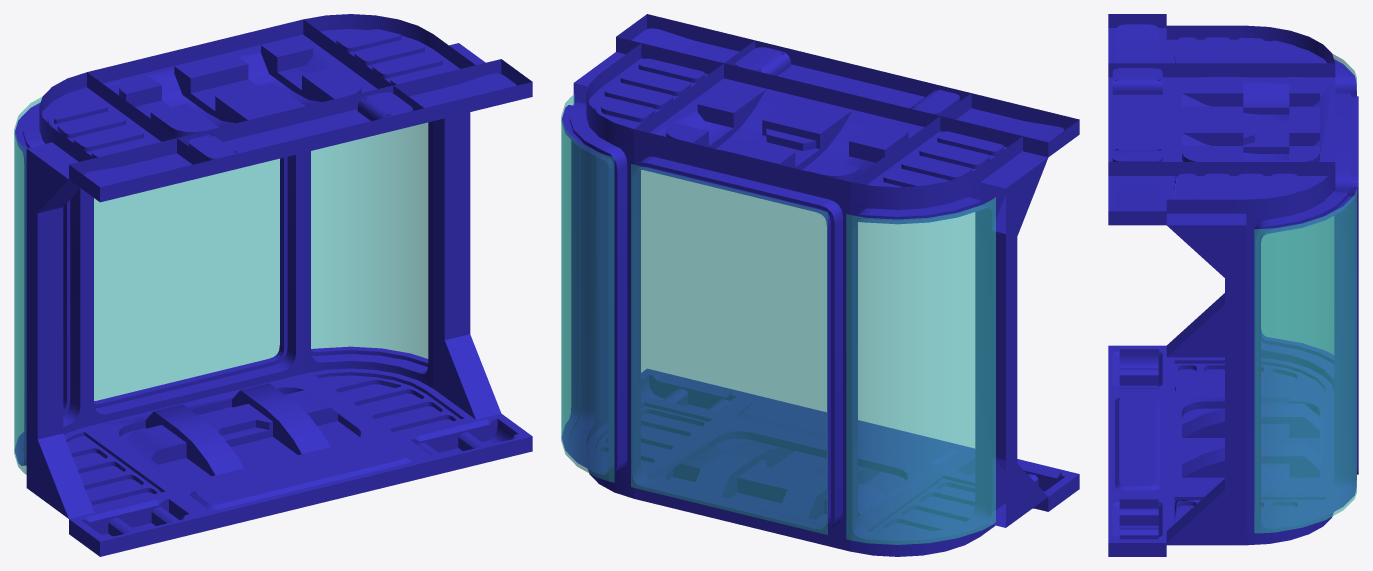
File: CBig_Wall_WinBig_A.FBX
3 renders of one model, left to right at view 1: azimuth 30°, elevation 25°; view 2: azimuth 150°, elevation 25°; view 3: azimuth 270°, elevation 25°, orthographic. The views are drawn at different scales.
Parts seen in each view (by area): view 1: CBig_Wall_WinBig_A; view 2: CBig_Wall_WinBig_A; view 3: CBig_Wall_WinBig_A.
Boxes of the visible parts, box(x1,y1,x2,y2) form: CBig_Wall_WinBig_A: box(14, 14, 532, 556); CBig_Wall_WinBig_A: box(561, 14, 1079, 556); CBig_Wall_WinBig_A: box(1108, 14, 1358, 556).
Bounding box in the file's own units: 600 × 496 × 322.
